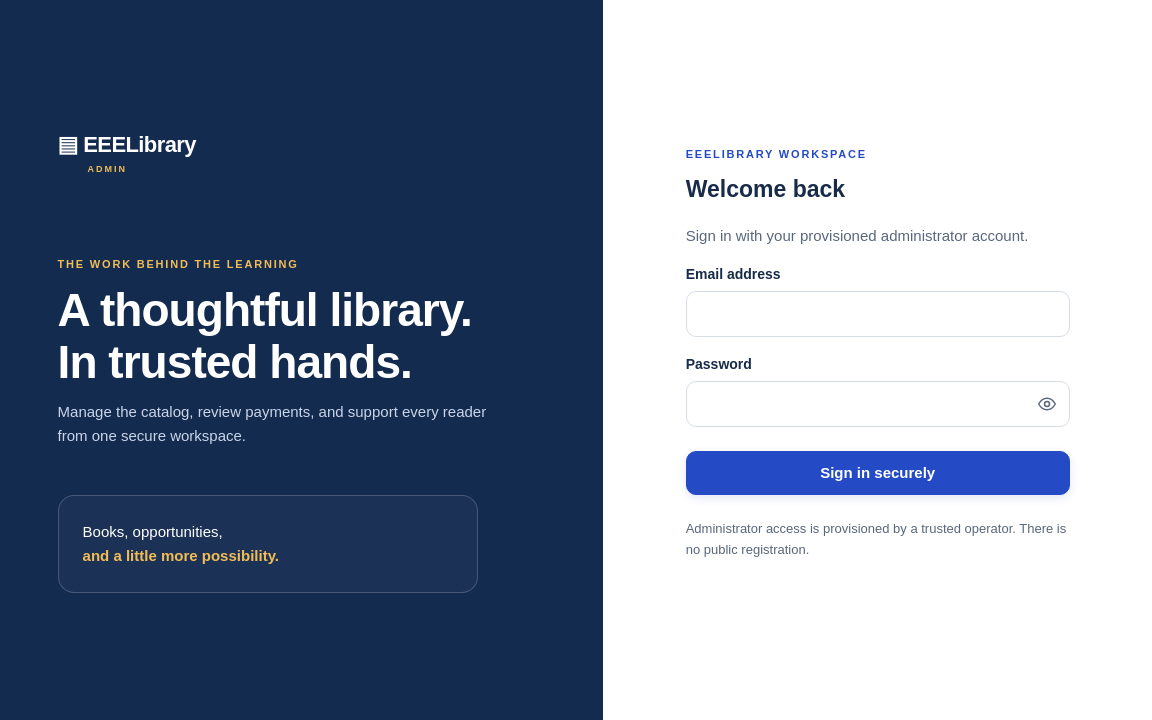
it: admin login feedback and password accessibility › backend denial is only shown after Firebase succeeds
Type "admin@example.test" into the field labelled "Email address" at (878,314), box [686,291,1070,337]
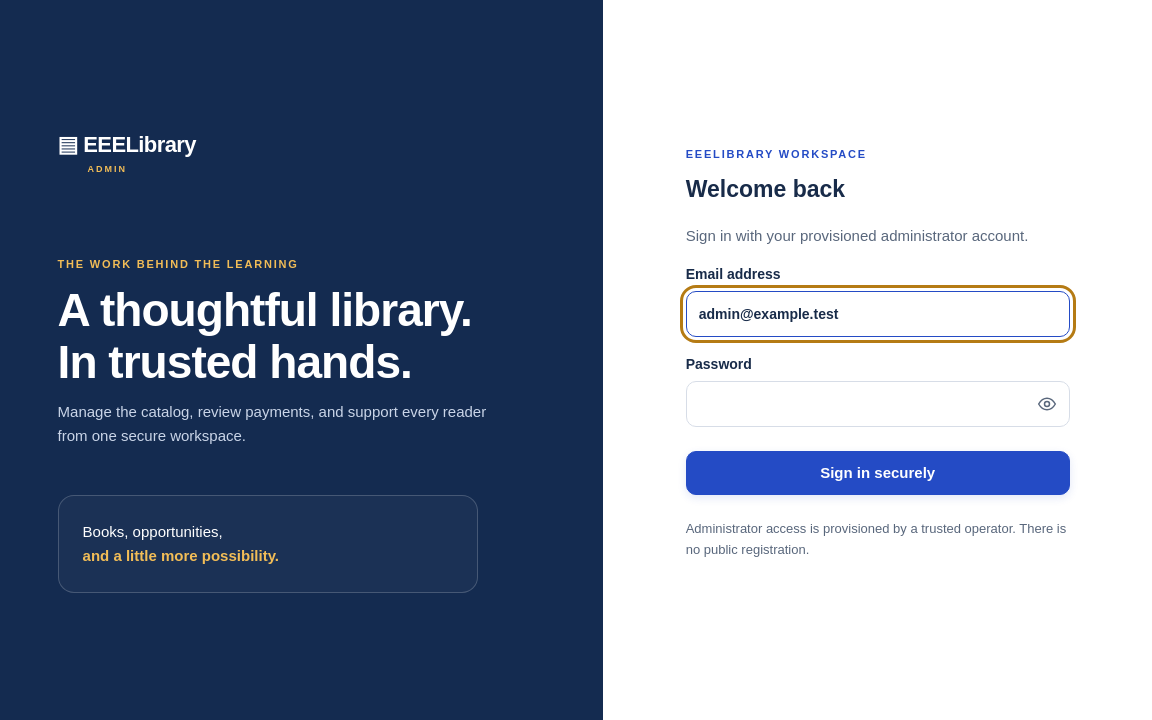
Type "private-fixture-password" into the password field labelled "Password" at (878,404), box [686,381,1070,427]
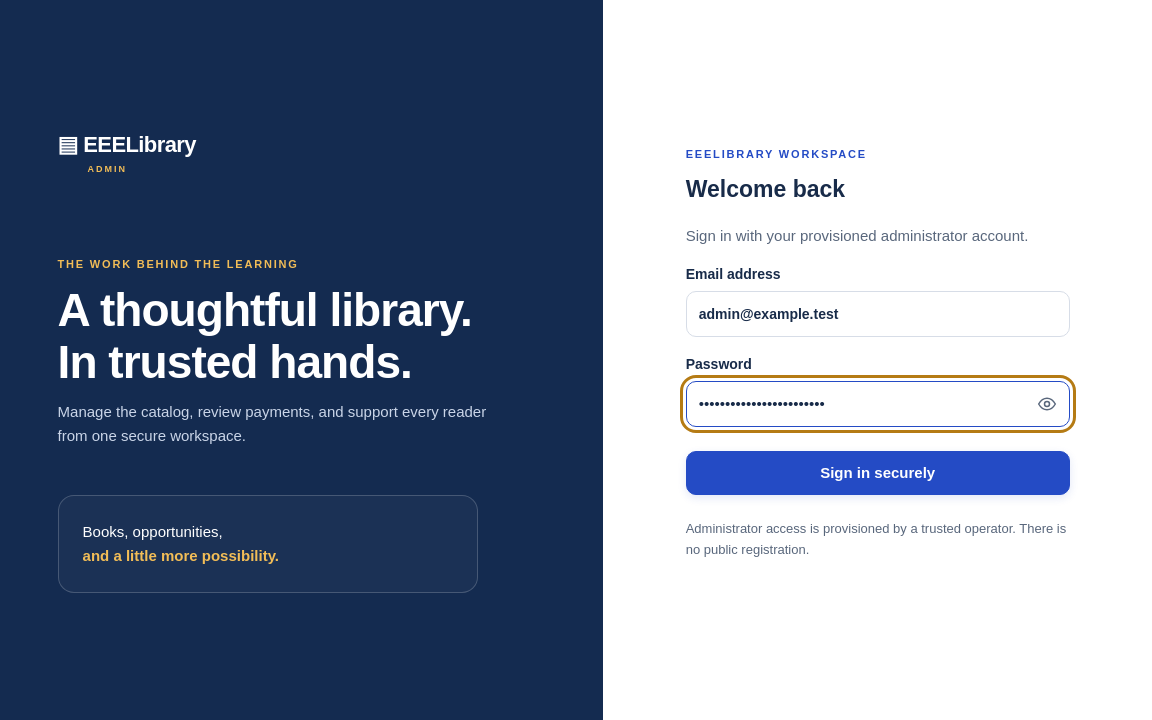
Click the button "Sign in securely" at (878,473), box [686,451,1070,495]
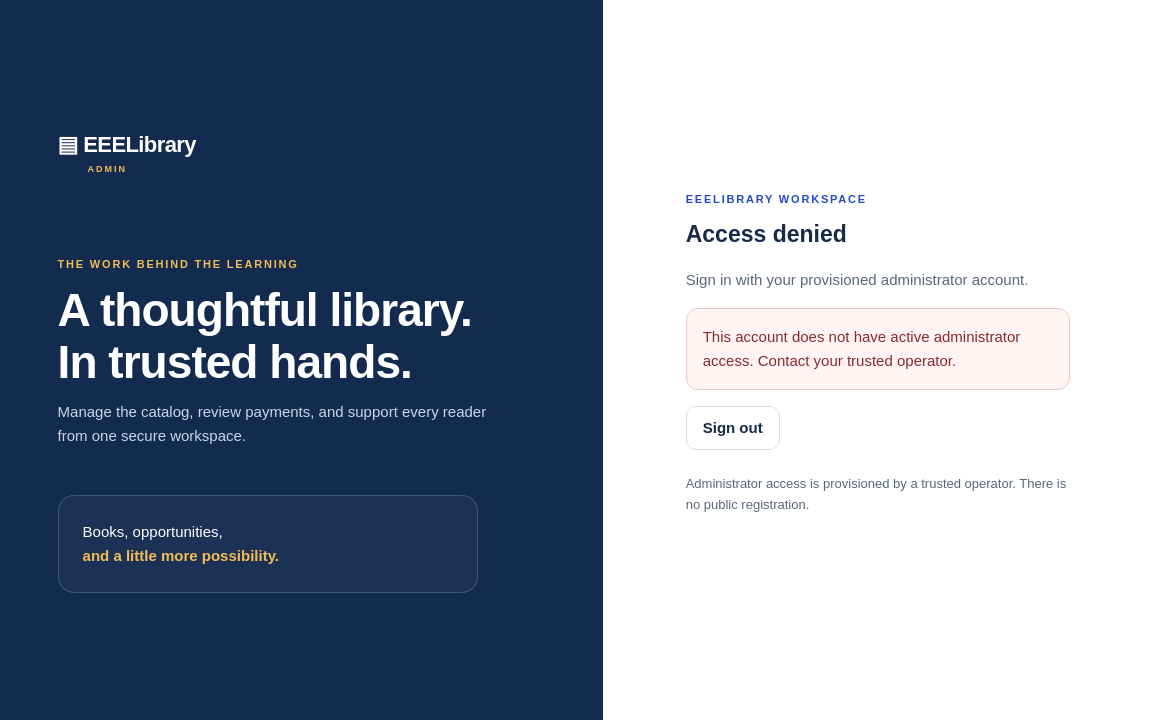
Check: the heading "Access denied" is shown, box [686,220,847,246]
Check: the number of messages is 1, box [686,308,1070,390]
Check: the message shows "does not have active administrator access", box [703,328,1020,370]
